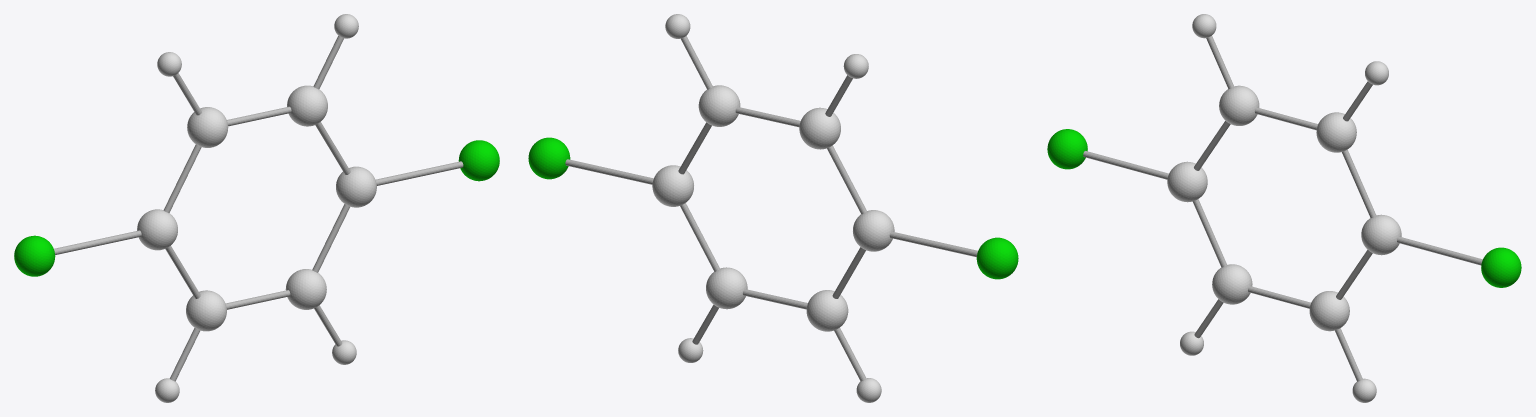
Rendered from Clc1ccc_Cl_cc1.glb.
3 renders of one model, left to right at view 1: azimuth 30°, elevation 25°; view 2: azimuth 150°, elevation 25°; view 3: azimuth 330°, elevation 25°, orthographic. The views are drawn at different scales.
Visible parts, largest first — view 1: world; view 2: world; view 3: world.
Boxes of the visible parts, x1,y1,x2,y2 form: world: (14, 14, 499, 402); world: (528, 14, 1018, 402); world: (1047, 14, 1521, 402).
Size of the model in its own units: 6.72 by 4.66 by 0.5821.
